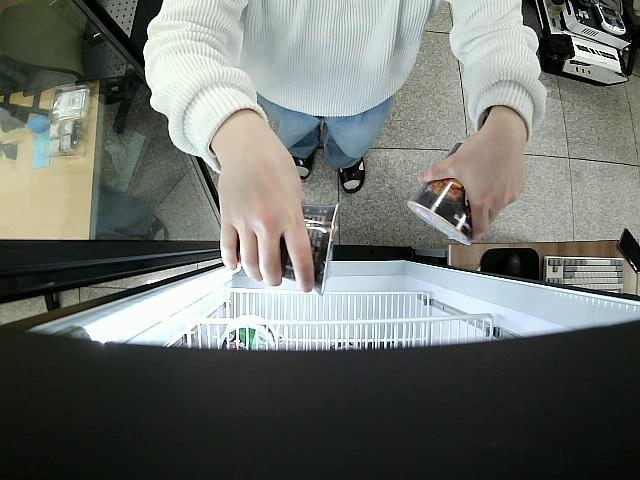08_buldak_S: (235, 200, 338, 297), (408, 140, 474, 246)
